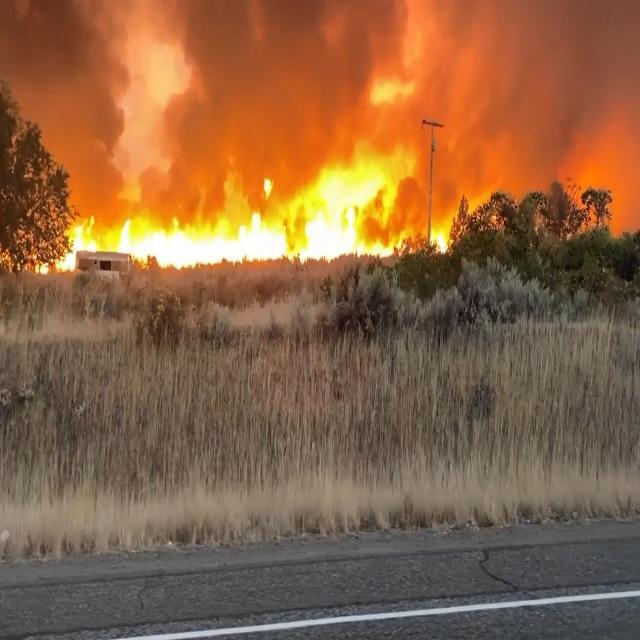Fire: (48, 123, 450, 264)
